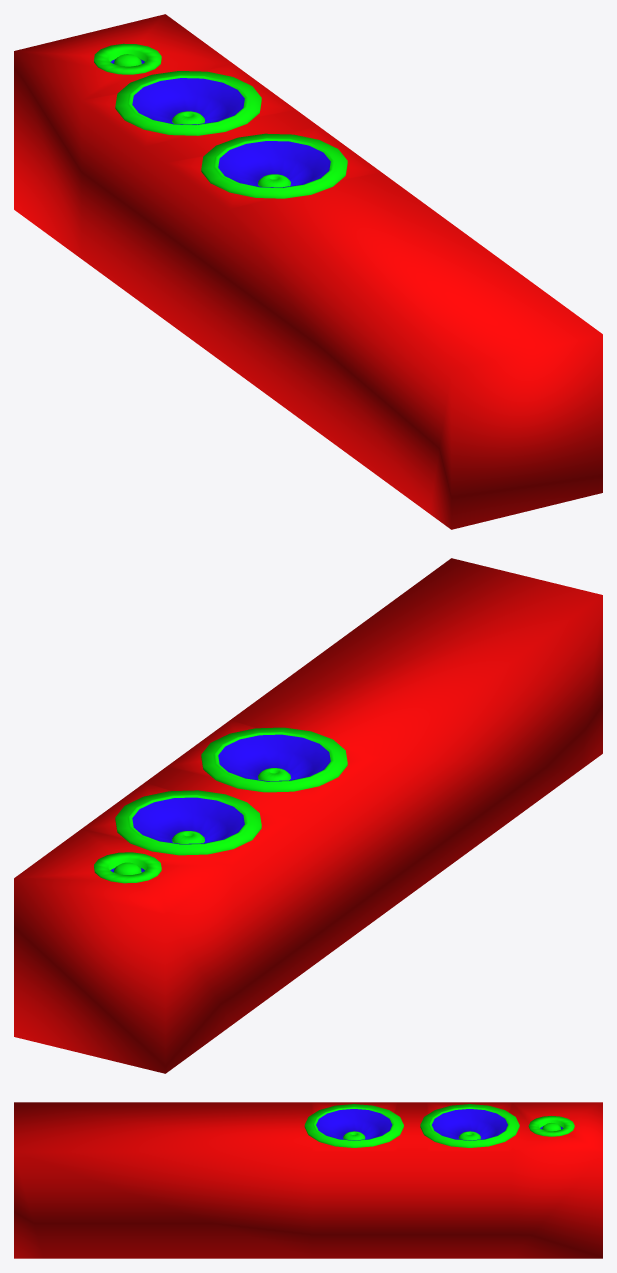
File: KinoDomowe_glosnik3 mesh.FBX
3 renders of one model, top to bottom at view 1: azimuth 30°, elevation 25°; view 2: azimuth 150°, elevation 25°; view 3: azimuth 270°, elevation 25°, orthographic. The views are drawn at different scales.
Visible parts, largest first — view 1: KinoDomowe_glosnik3 mesh; view 2: KinoDomowe_glosnik3 mesh; view 3: KinoDomowe_glosnik3 mesh.
Part boxes in pixels (bbox=[...]): KinoDomowe_glosnik3 mesh: bbox=[14, 14, 602, 529]; KinoDomowe_glosnik3 mesh: bbox=[14, 558, 602, 1073]; KinoDomowe_glosnik3 mesh: bbox=[14, 1102, 602, 1258].
Size of the model in its own units: 0.25 by 1.25 by 0.2568.
